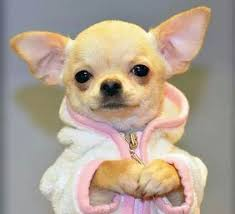chihuahua: (8, 6, 217, 214)
